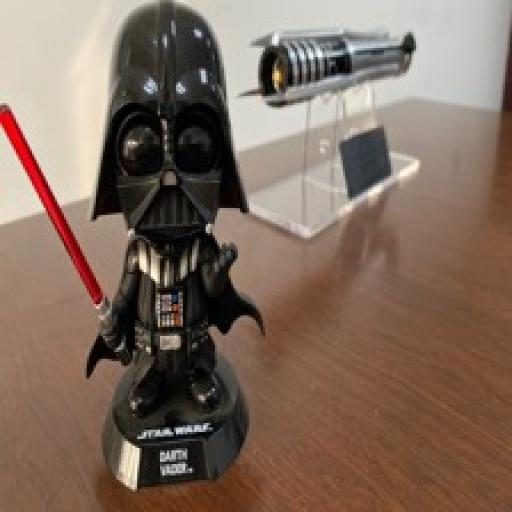sith saber: (1, 103, 128, 358)
